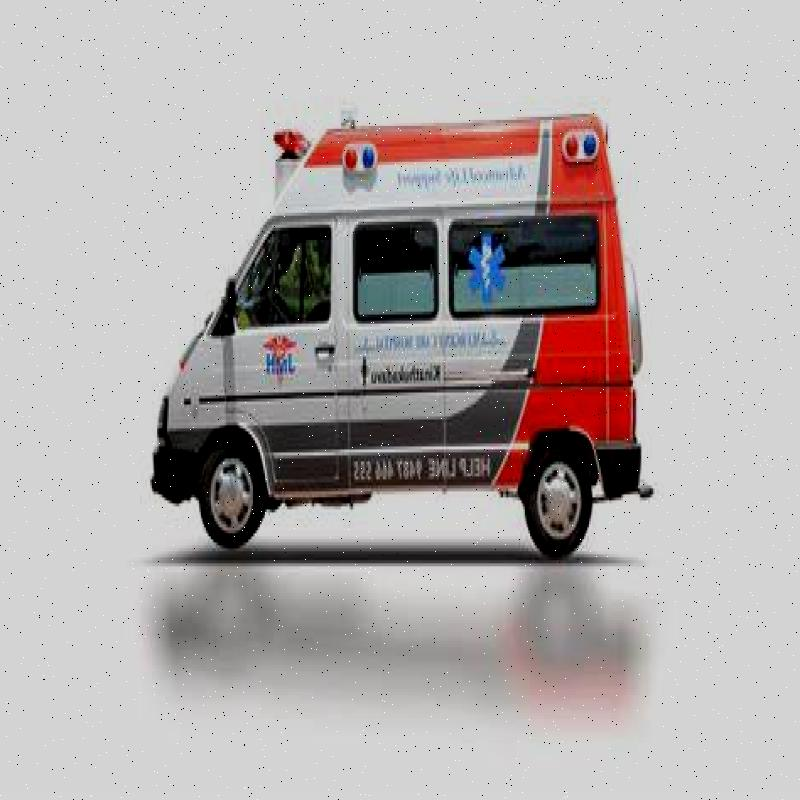AmbulanceSiren: (325, 138, 381, 201), (556, 127, 598, 175), (277, 118, 308, 169)
